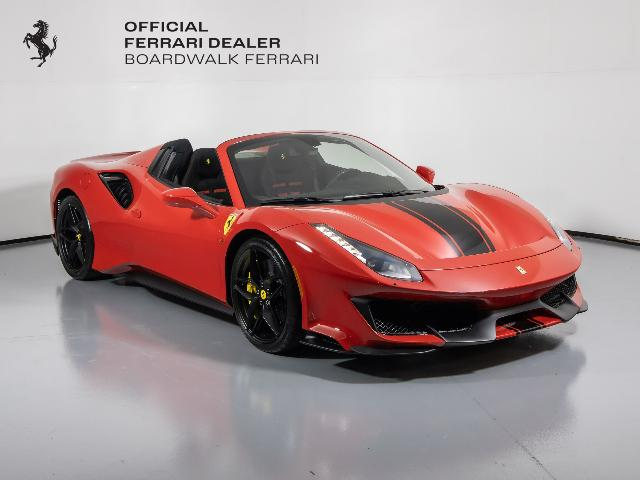ferrari: (50, 131, 588, 359)
